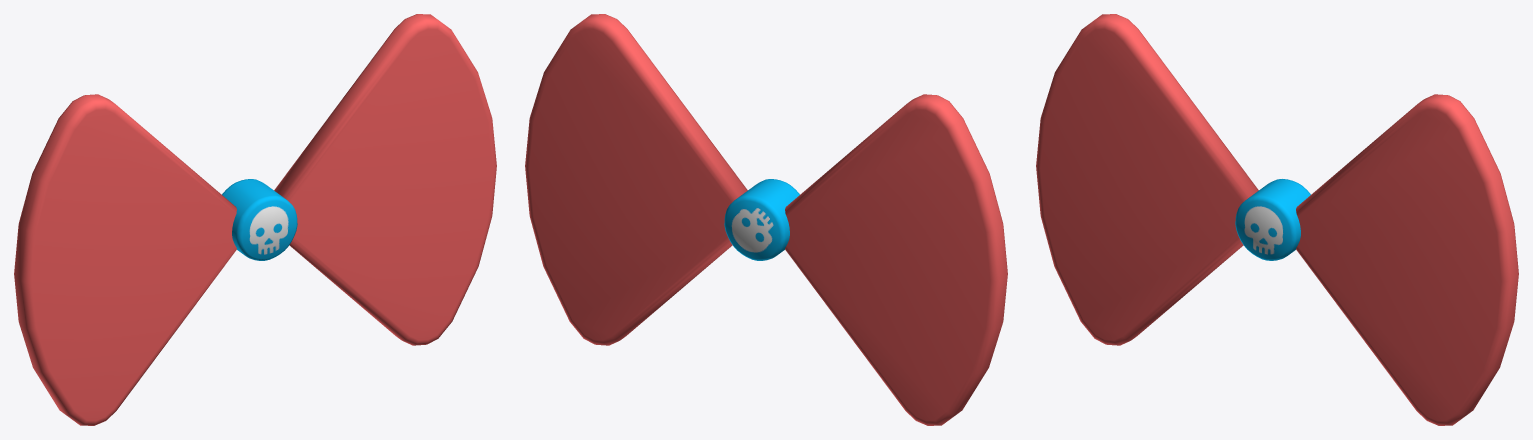
Rendered from rotate_big_horizontal_3.FBX.
The picture shows the model from 3 angles, left to right: view 1: azimuth 30°, elevation 25°; view 2: azimuth 150°, elevation 25°; view 3: azimuth 330°, elevation 25°; orthographic projection.
Parts seen in each view (by area): view 1: rotate_big_horizontal_3; view 2: rotate_big_horizontal_3; view 3: rotate_big_horizontal_3.
Part boxes in pixels (<box>): rotate_big_horizontal_3: <box>14,14,496,425</box>; rotate_big_horizontal_3: <box>525,14,1007,425</box>; rotate_big_horizontal_3: <box>1036,14,1518,425</box>.
Size of the model in its own units: 11.73 by 7.69 by 1.16.
Materials: 1 (1 with a texture image).
